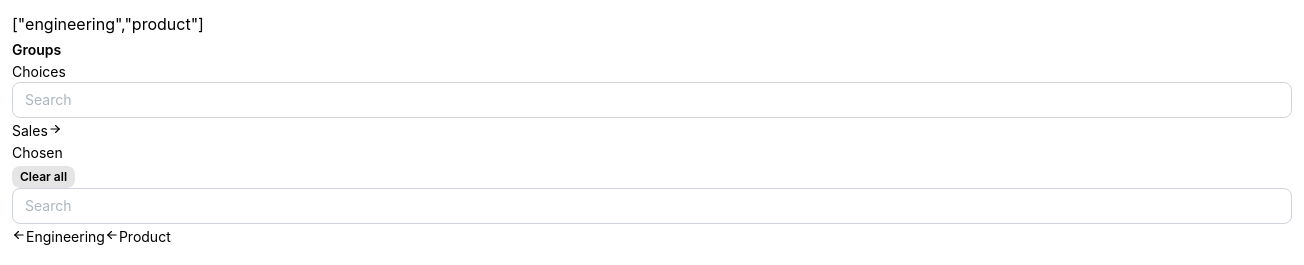
TransferList with Mantine form getInputProps › removes a chosen group without duplicating
The width and height of the screenshot is (1304, 265).
Click the button with aria-label "Remove Engineering" at (58, 236), box [12,224,105,249]
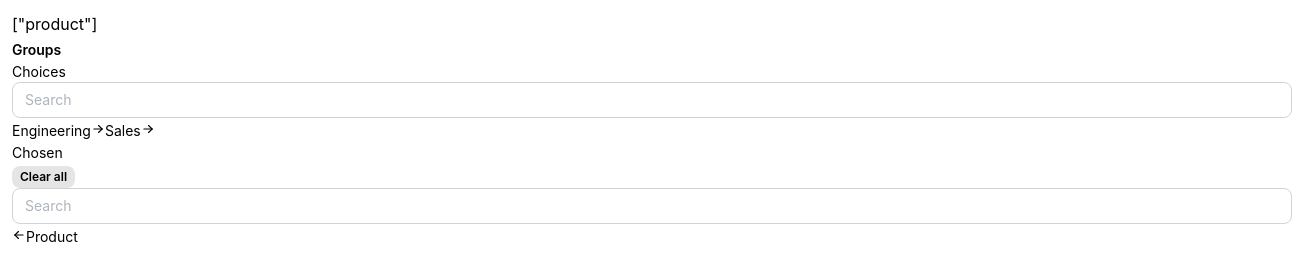
Check: the text with test id "value" reads "[\"product\"]", box [12,14,97,34]
Check: the button with aria-label "Add Engineering" is shown, box [12,118,105,143]
